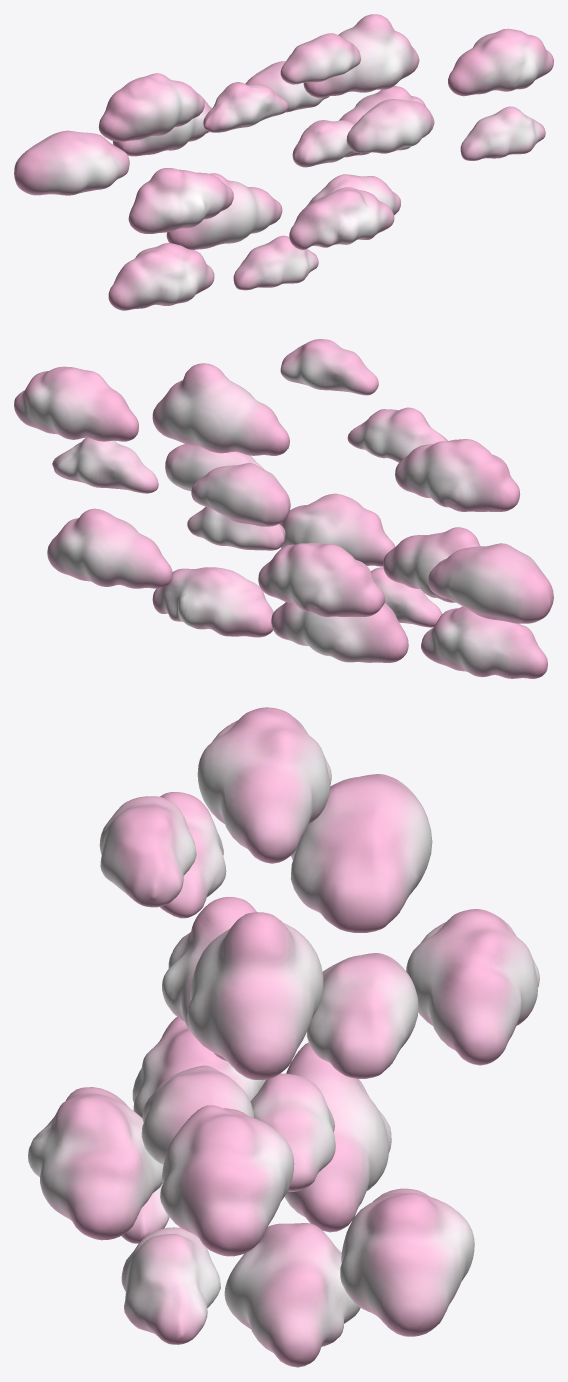
Rendered from clouds_mat.gltf.
3 renders of one model, top to bottom at view 1: azimuth 30°, elevation 25°; view 2: azimuth 150°, elevation 25°; view 3: azimuth 270°, elevation 25°, orthographic. The views are drawn at different scales.
Visible parts, largest first — view 1: cloud.010, cloud.005, cloud.004, cloud.013, cloud.003, cloud.019, cloud.011, cloud.009, cloud.016, cloud.017, cloud.018, cloud.007 (+6 smaller); view 2: cloud.019, cloud.010, cloud.014, cloud.012, cloud.013, cloud.004, cloud.005, cloud.002, cloud.009, cloud.011, cloud.006, cloud.017 (+6 smaller); view 3: cloud.019, cloud.010, cloud.013, cloud.012, cloud.004, cloud.014, cloud.011, cloud.002, cloud.006, cloud.009, cloud.017, cloud.015 (+6 smaller).
Boxes of the visible parts, x1=… form: cloud.010: x1=14, y1=130, x2=129, y2=195; cloud.005: x1=108, y1=243, x2=214, y2=310; cloud.004: x1=98, y1=73, x2=204, y2=141; cloud.013: x1=448, y1=28, x2=553, y2=96; cloud.003: x1=128, y1=168, x2=233, y2=233; cloud.019: x1=303, y1=14, x2=419, y2=97; cloud.011: x1=289, y1=187, x2=394, y2=249; cloud.009: x1=166, y1=173, x2=282, y2=249; cloud.016: x1=346, y1=99, x2=432, y2=153; cloud.017: x1=460, y1=106, x2=545, y2=160; cloud.018: x1=233, y1=235, x2=318, y2=290; cloud.007: x1=203, y1=82, x2=288, y2=132; cloud.019: x1=152, y1=363, x2=289, y2=455; cloud.010: x1=428, y1=543, x2=553, y2=623; cloud.014: x1=258, y1=543, x2=385, y2=617; cloud.012: x1=47, y1=508, x2=172, y2=588; cloud.013: x1=14, y1=366, x2=138, y2=441; cloud.004: x1=395, y1=439, x2=520, y2=511; cloud.005: x1=421, y1=606, x2=547, y2=678; cloud.002: x1=152, y1=567, x2=273, y2=637; cloud.009: x1=271, y1=602, x2=408, y2=662; cloud.011: x1=279, y1=493, x2=395, y2=566; cloud.006: x1=191, y1=463, x2=290, y2=526; cloud.017: x1=52, y1=437, x2=158, y2=493; cloud.019: x1=187, y1=912, x2=323, y2=1079; cloud.010: x1=290, y1=774, x2=432, y2=932; cloud.013: x1=160, y1=1105, x2=294, y2=1256; cloud.012: x1=340, y1=1188, x2=474, y2=1336; cloud.004: x1=197, y1=707, x2=331, y2=863; cloud.014: x1=406, y1=909, x2=539, y2=1065; cloud.011: x1=28, y1=1087, x2=163, y2=1240; cloud.002: x1=224, y1=1223, x2=360, y2=1367; cloud.006: x1=306, y1=953, x2=418, y2=1078; cloud.009: x1=284, y1=1042, x2=391, y2=1232; cloud.017: x1=121, y1=1227, x2=220, y2=1344; cloud.015: x1=99, y1=796, x2=196, y2=907.
Bounding box in the file's own units: 25.02 × 11.46 × 11.12.
1 material, 1 textured.
